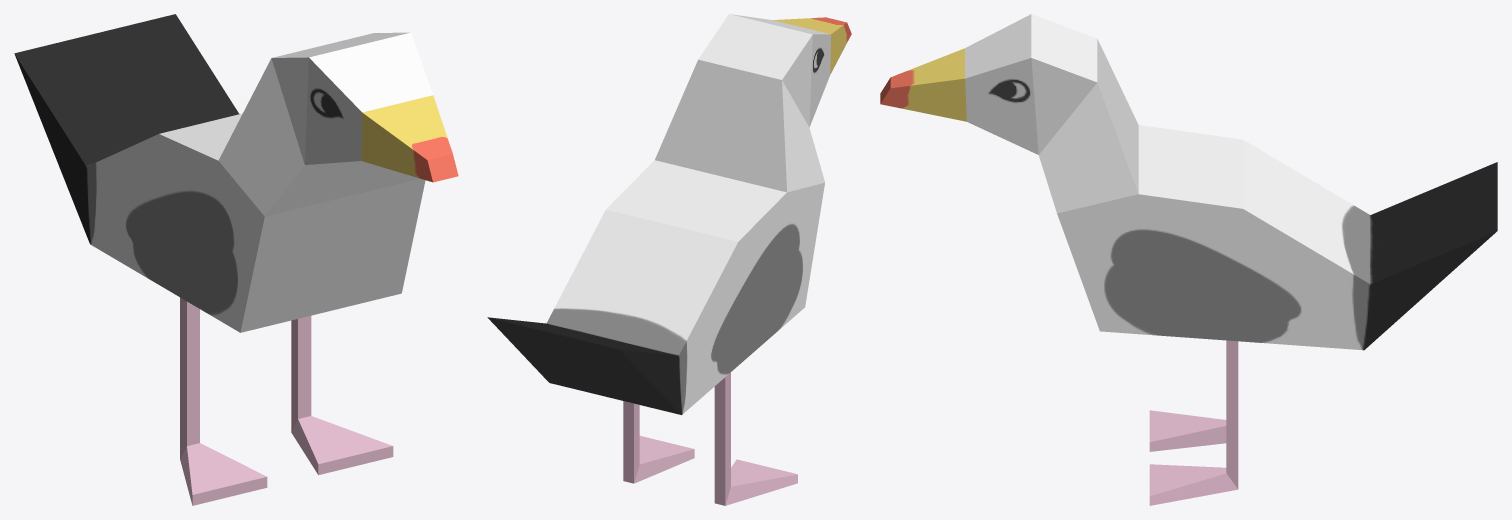
File: seagull.fbx
3 views of the same model, side by side, from view 1: azimuth 30°, elevation 25°; view 2: azimuth 150°, elevation 25°; view 3: azimuth 270°, elevation 25° (orthographic). The views are drawn at different scales.
Visible parts, largest first — view 1: pCube3; view 2: pCube3; view 3: pCube3.
Part boxes in pixels (<box>): pCube3: <box>14,14,458,505</box>; pCube3: <box>487,14,851,505</box>; pCube3: <box>880,14,1497,505</box>.
Bounding box in the file's own units: 0.1148 × 0.2655 × 0.3477.
